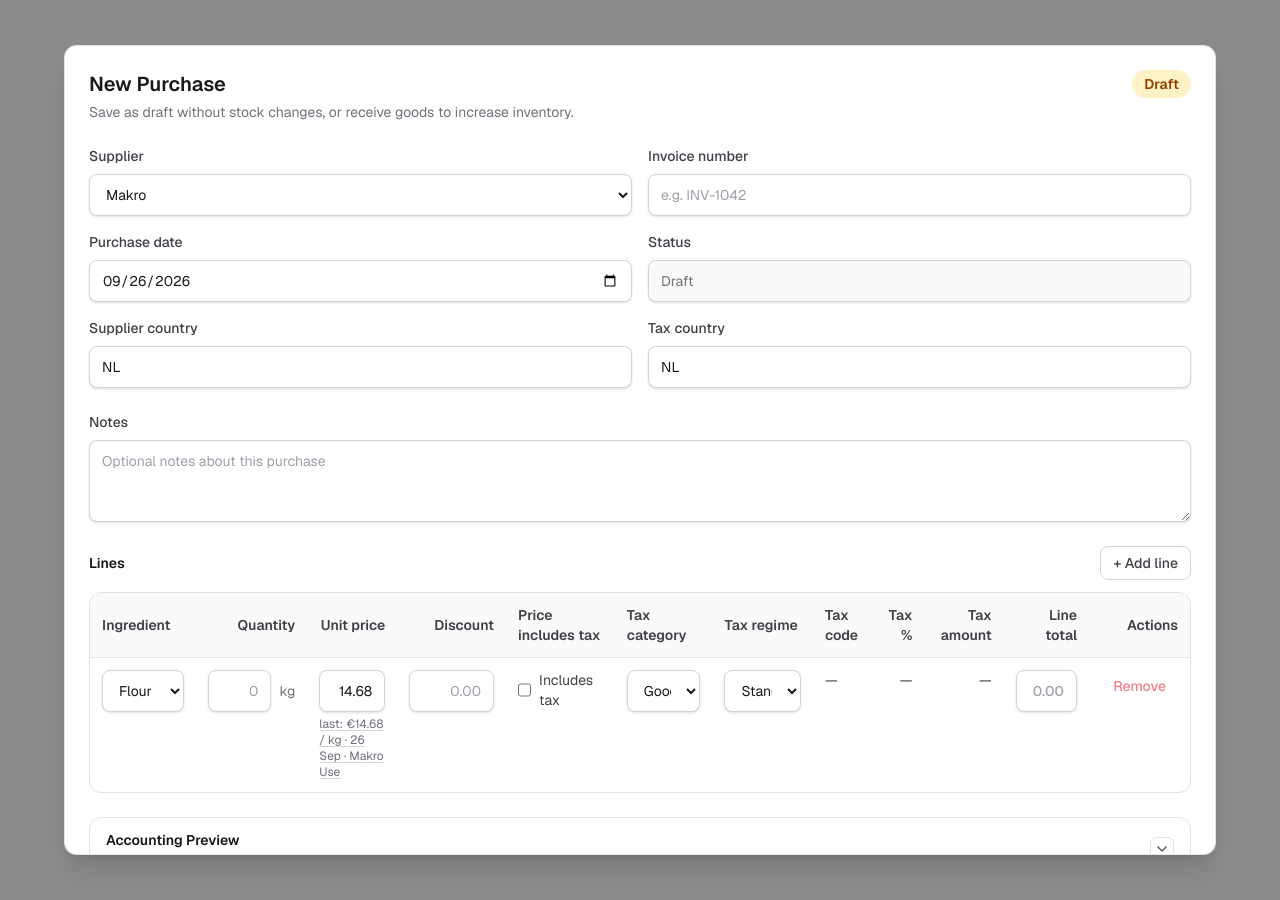
Scenario: PurchaseDocumentModal last price › clears a typed price and user tax when the next ingredient has no history
Replace the text in the field named "Unit price" with "3" at {"x": 352, "y": 691}, box x1=319 y1=670 x2=385 y2=712
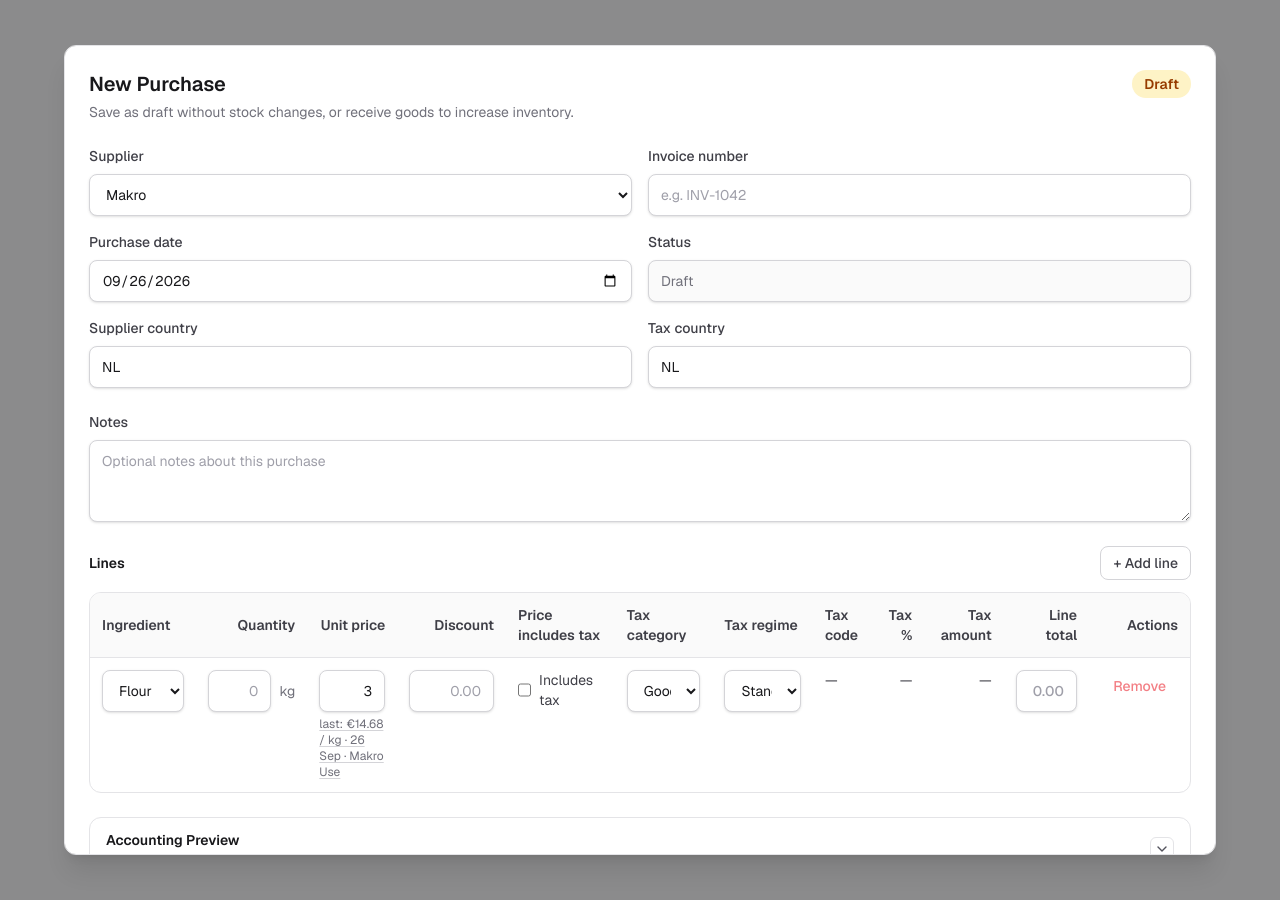
Select "Alcohol" in the 3rd dropdown at {"x": 664, "y": 691}, box x1=627 y1=670 x2=700 y2=712
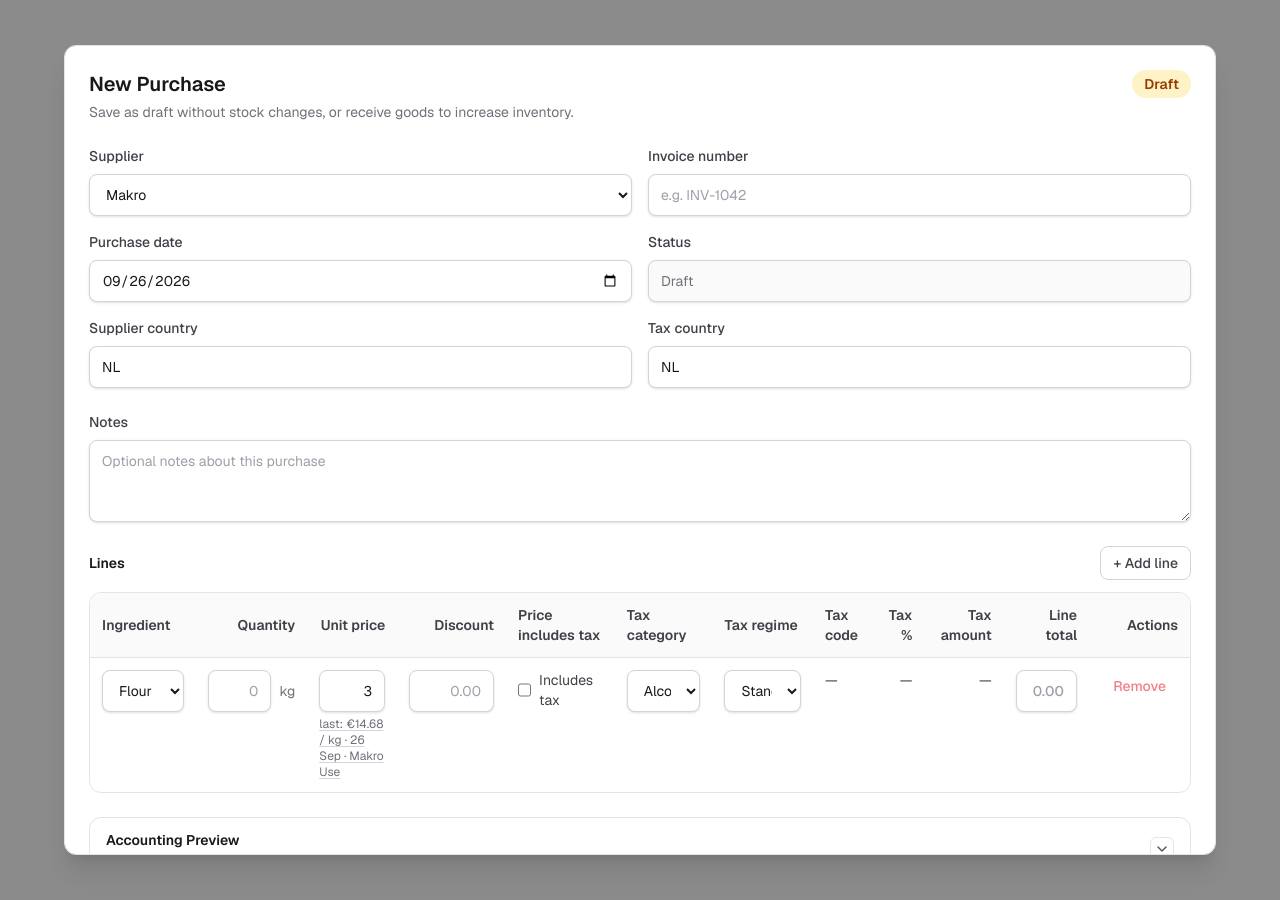
Select "Milk (L)" in the 2nd dropdown at {"x": 143, "y": 691}, box x1=102 y1=670 x2=184 y2=712
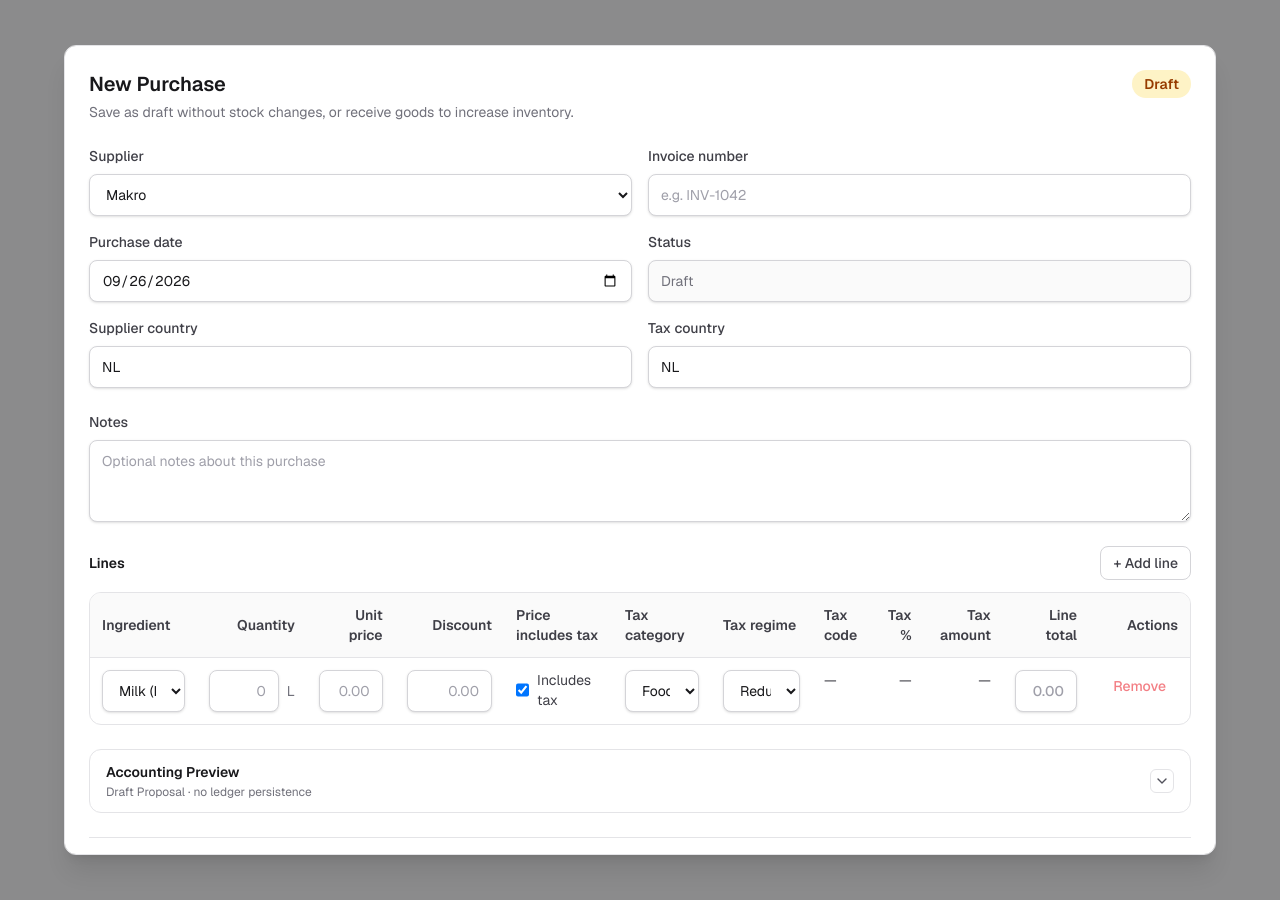
expect the field named "Unit price" is empty: met, box x1=319 y1=670 x2=383 y2=712
expect the checkbox labelled "Includes tax" is checked: met, box x1=516 y1=682 x2=529 y2=698
expect the 4th dropdown shows "Reduced VAT": met, box x1=723 y1=670 x2=800 y2=712
